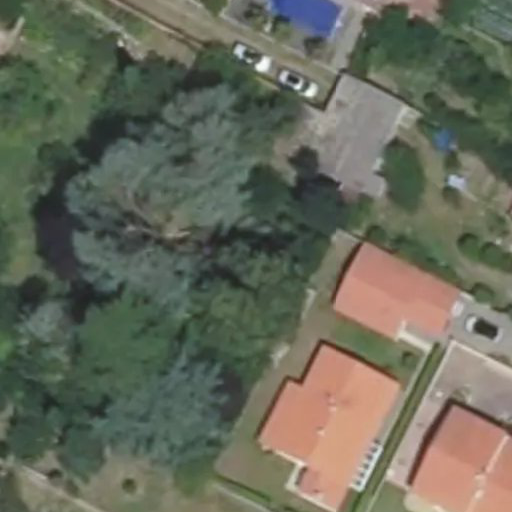pool: (228, 216, 285, 265)
